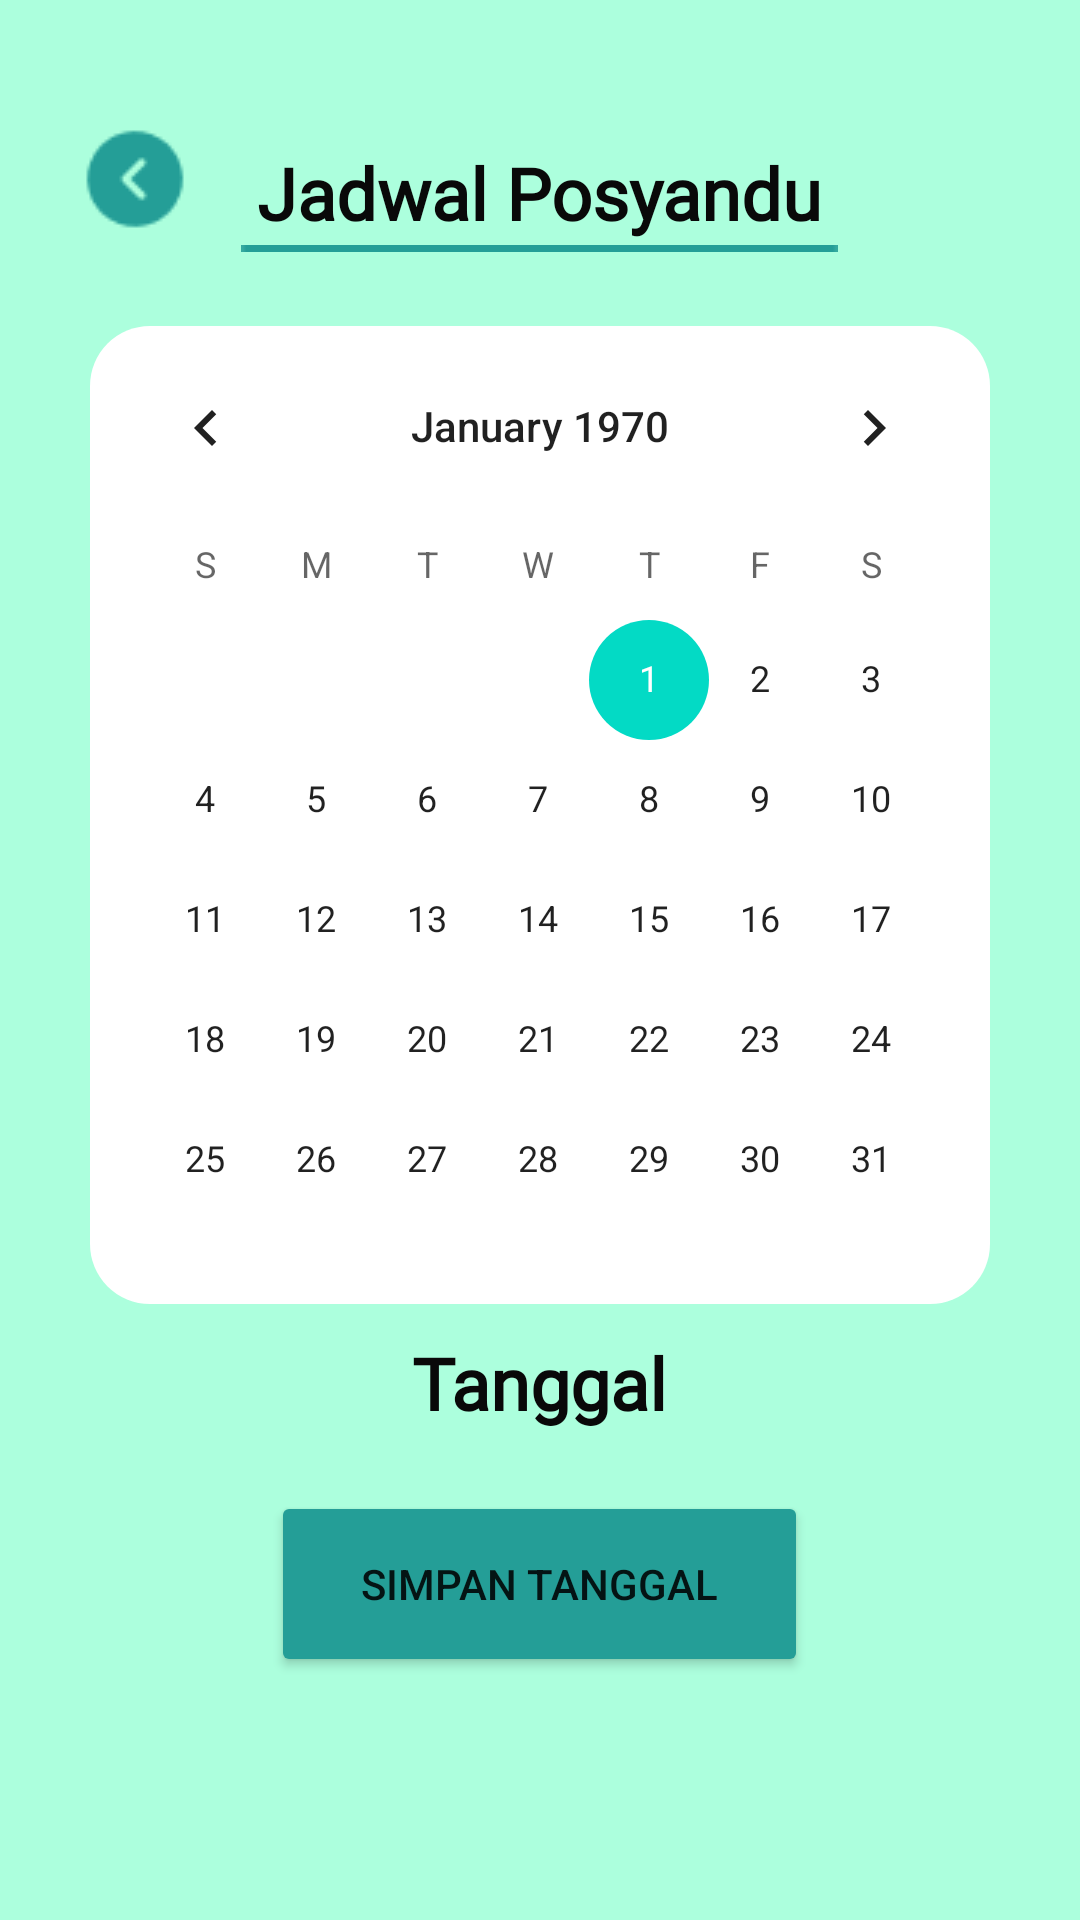

Where to tap for icons on this 1080x1920 app screen, as [x,y]:
tombolback: [135,179]
